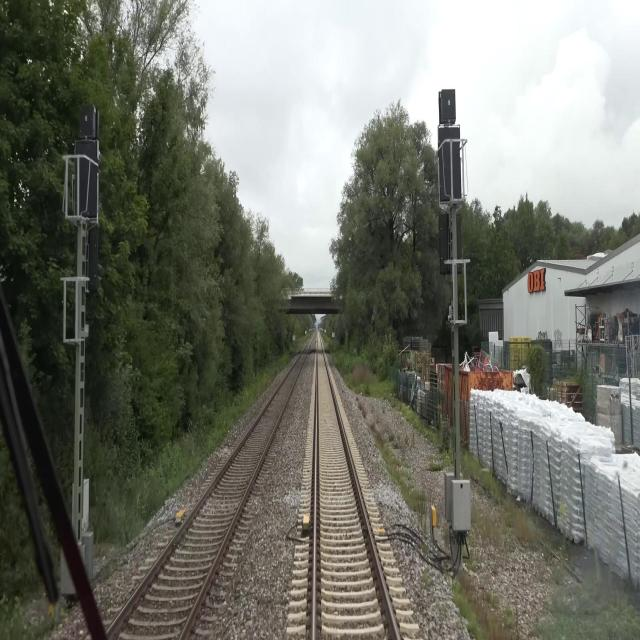rail-track: (106, 346, 307, 639), (316, 340, 395, 639)
